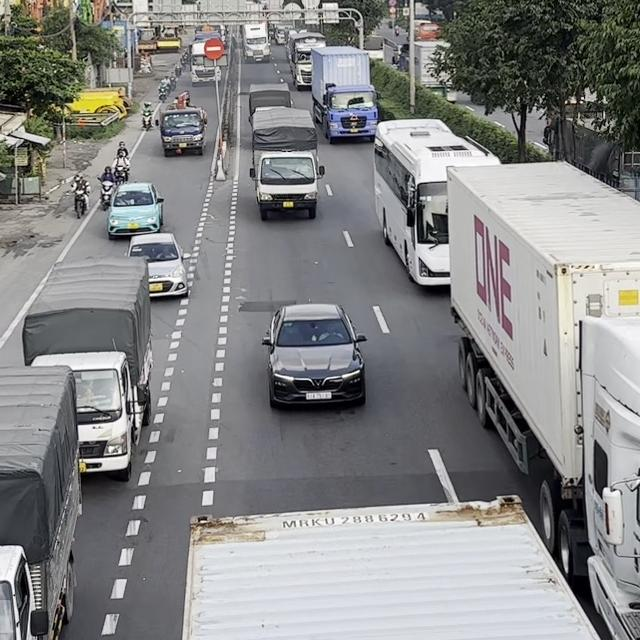bus: (372, 117, 501, 288)
car: (261, 302, 367, 410), (124, 232, 193, 299), (106, 182, 164, 239)
motorcycle: (70, 182, 91, 218), (96, 175, 114, 211), (112, 164, 129, 184), (141, 110, 153, 130)
truck: (447, 159, 640, 640), (180, 494, 605, 639), (21, 255, 153, 480), (0, 365, 83, 639), (248, 105, 325, 220), (310, 45, 380, 143), (159, 90, 207, 156), (285, 29, 326, 90), (248, 82, 294, 117), (242, 22, 271, 62)
